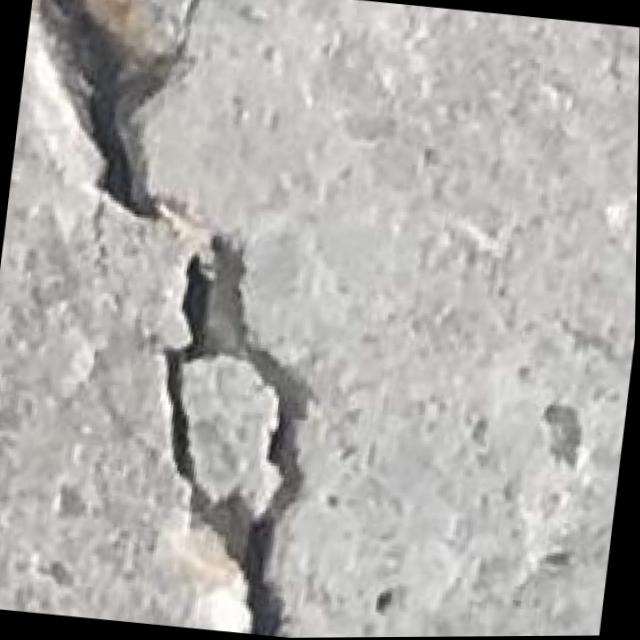Crack: (124, 207, 354, 639), (11, 0, 206, 236)
